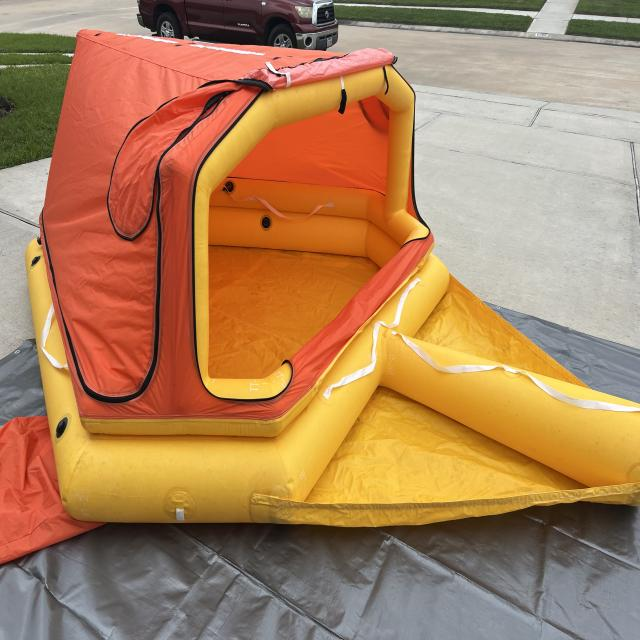Multi-person_life_raft: (1, 28, 640, 564)
